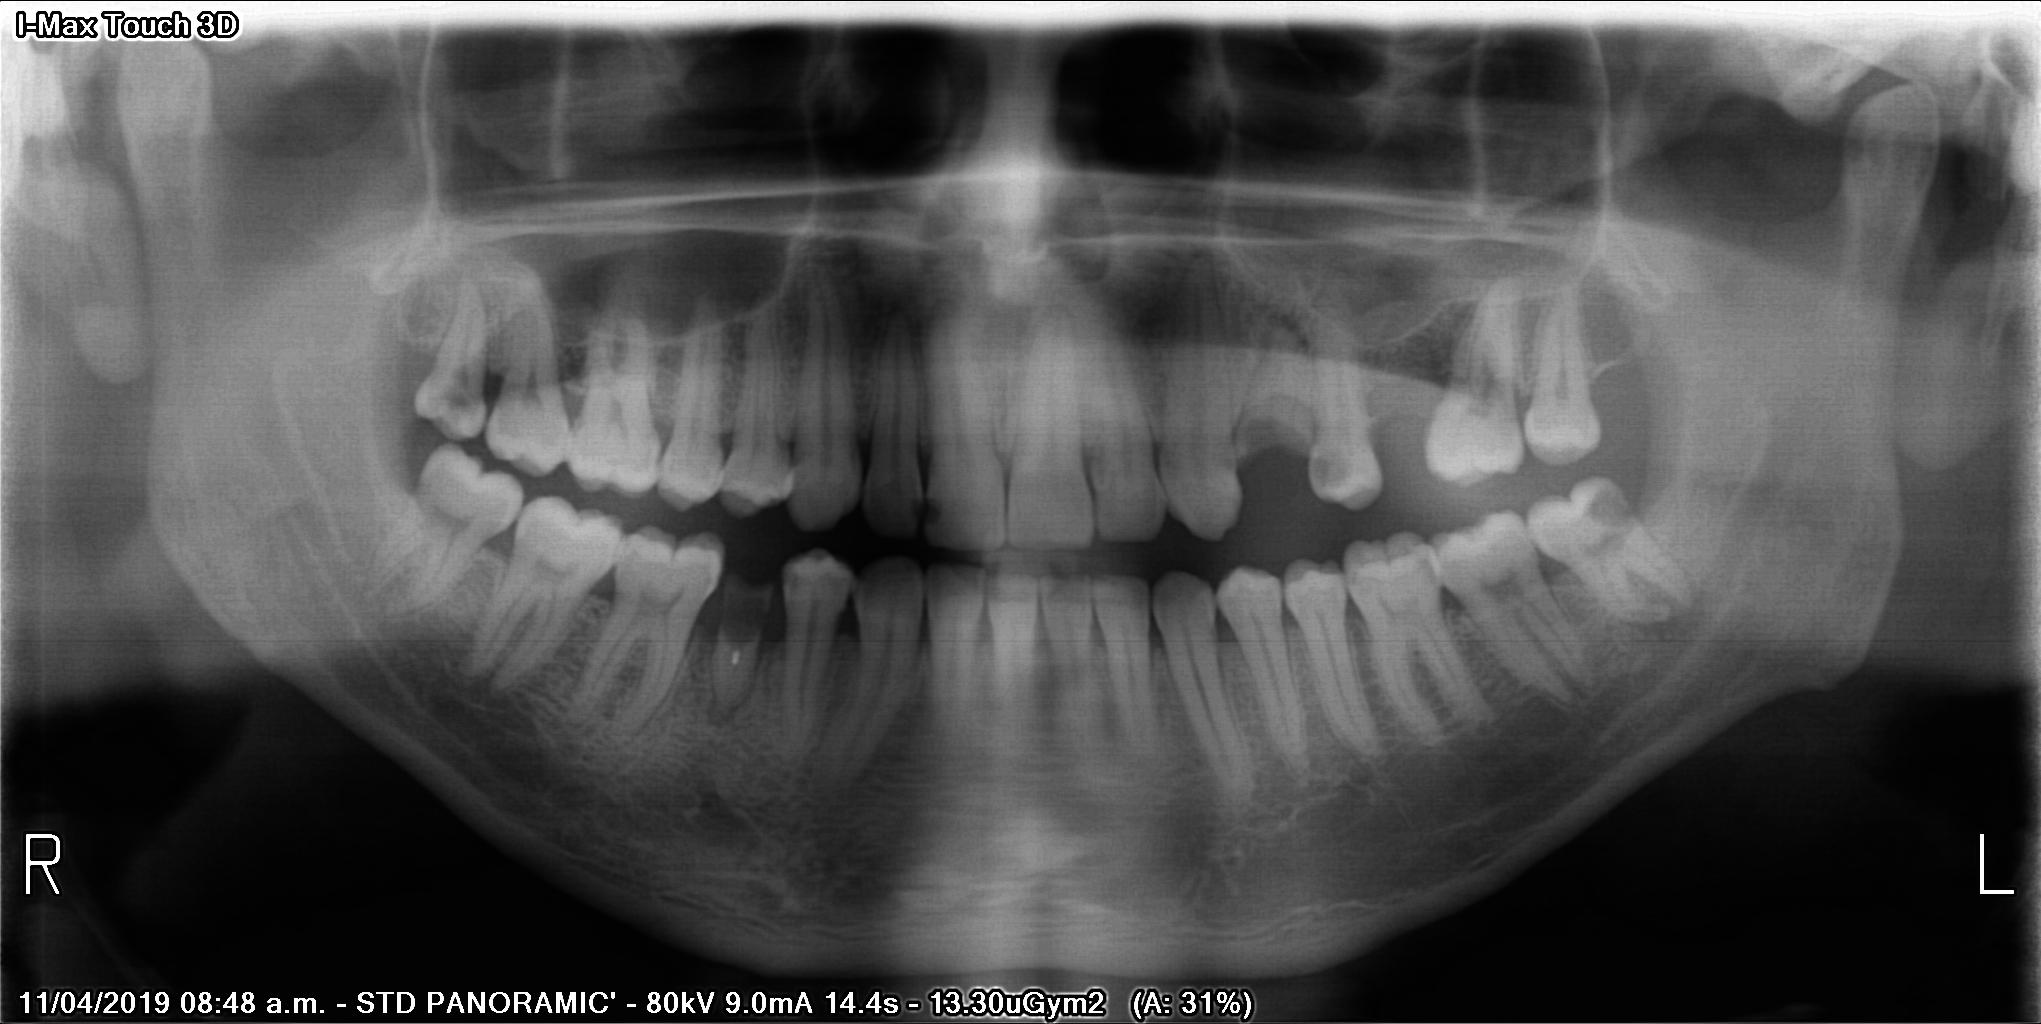Çürük Bölgesi: (720, 580, 774, 645), (1239, 415, 1310, 465), (1585, 481, 1639, 528), (1303, 451, 1354, 492), (926, 496, 944, 536), (783, 560, 802, 597), (913, 487, 925, 521)
